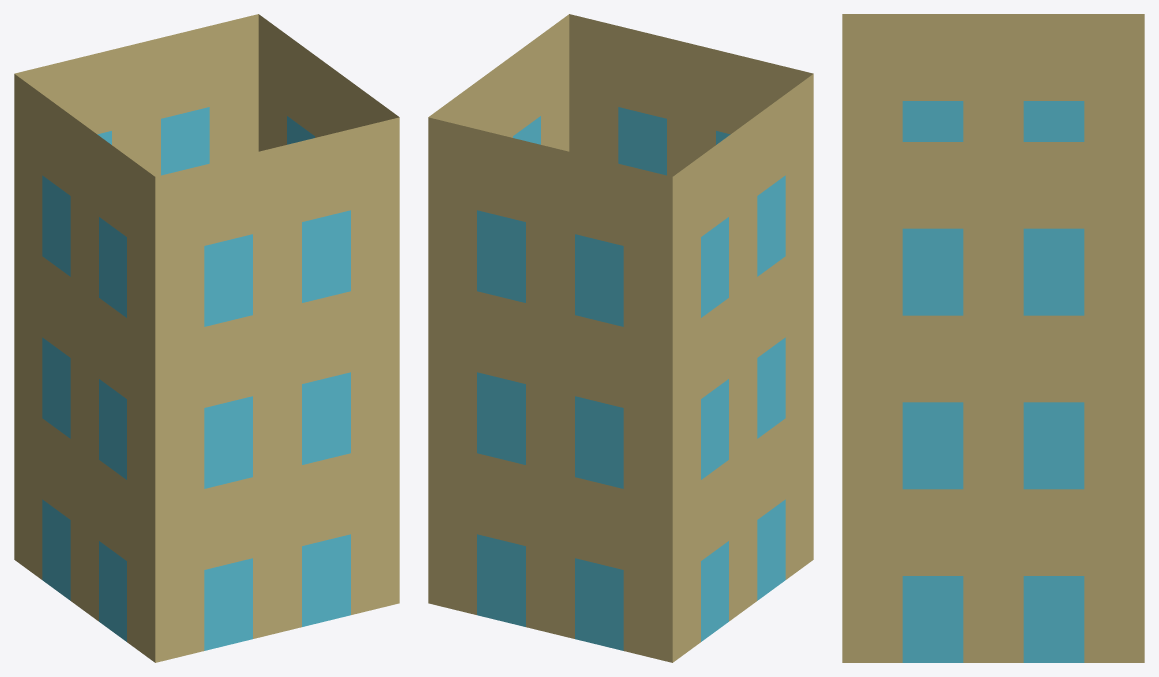
File: BeigeHouse.fbx
3 renders of one model, left to right at view 1: azimuth 30°, elevation 25°; view 2: azimuth 150°, elevation 25°; view 3: azimuth 270°, elevation 25°, orthographic. The views are drawn at different scales.
Visible parts, largest first — view 1: House; view 2: House; view 3: House.
Part boxes in pixels (x1,y1,x2,y2): House: (14,14,399,662); House: (428,14,813,662); House: (842,14,1144,662).
Bounding box in the file's own units: 300 × 570 × 300.
